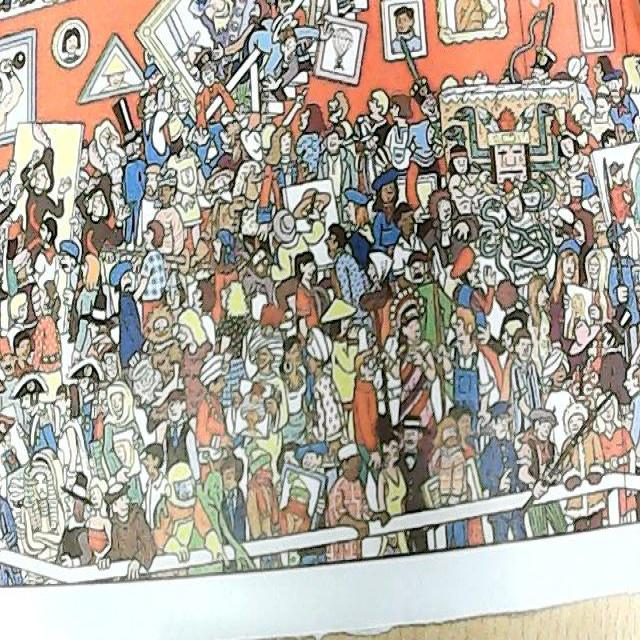waldo: (92, 339, 122, 381)
